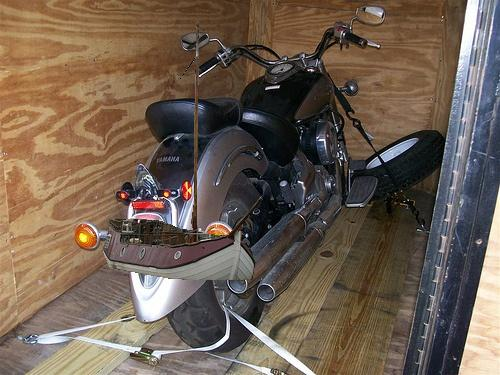tampered: (103, 22, 263, 280)
